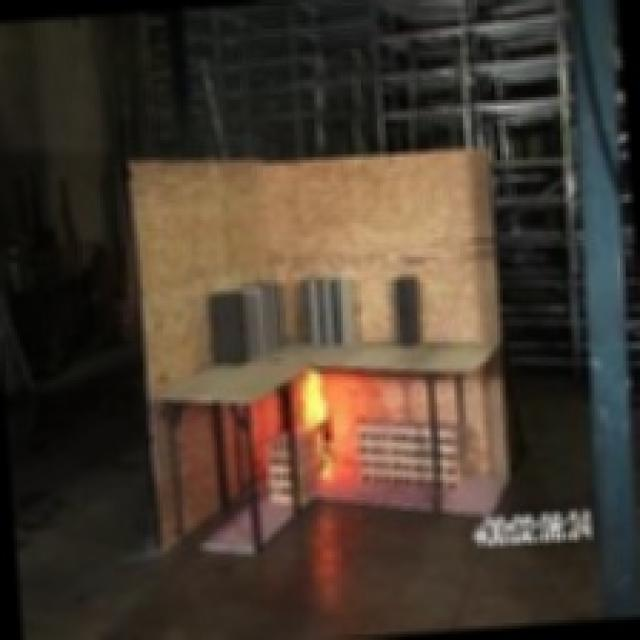fire: (286, 357, 348, 443)
